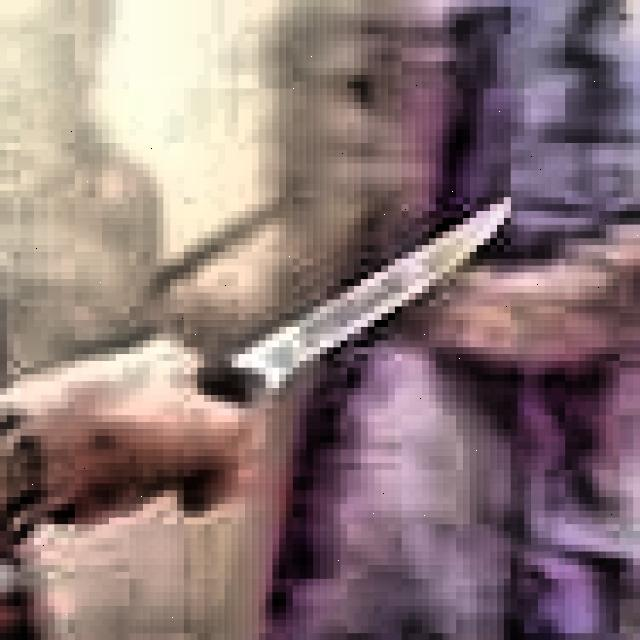knife: (208, 195, 512, 408)
